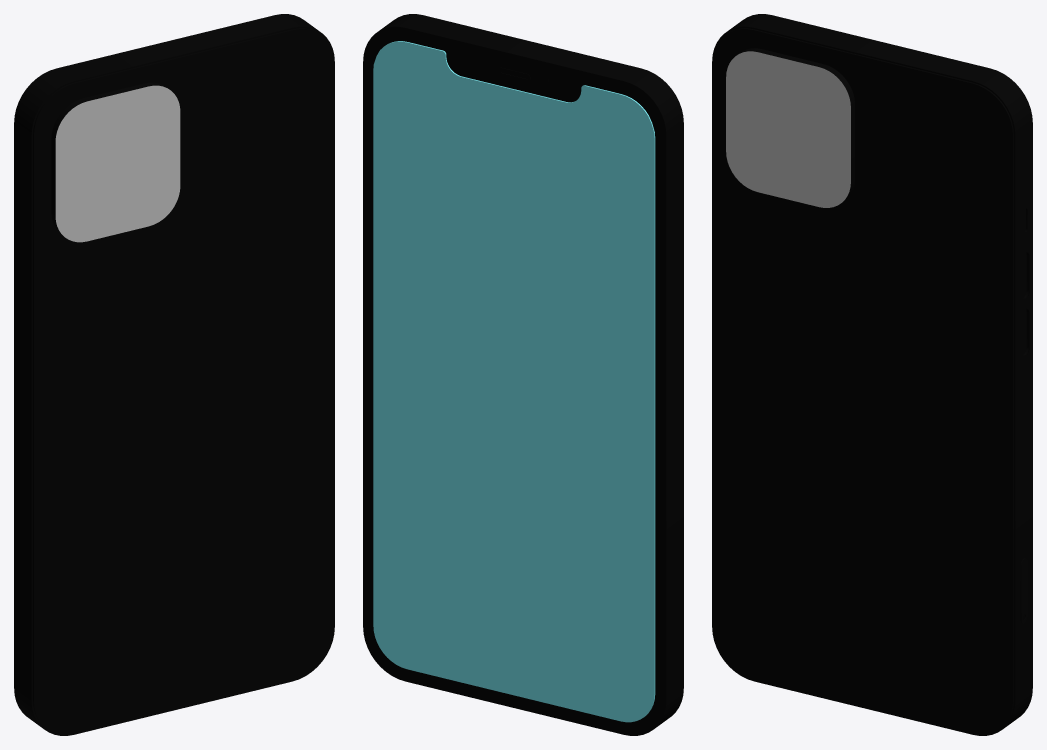
Rendered from iPhone_12_pro_max .dae.
3 renders of one model, left to right at view 1: azimuth 30°, elevation 25°; view 2: azimuth 150°, elevation 25°; view 3: azimuth 330°, elevation 25°, orthographic.
Visible parts, largest first — view 1: dragon (×2); view 2: dragon (×2); view 3: dragon (×2).
Boxes of the visible parts, <box> form: dragon (×2): <box>14,14,334,735</box>; dragon (×2): <box>363,14,683,735</box>; dragon (×2): <box>712,14,1032,735</box>.
Size of the model in its own units: 1.22 by 2.48 by 0.1599.
